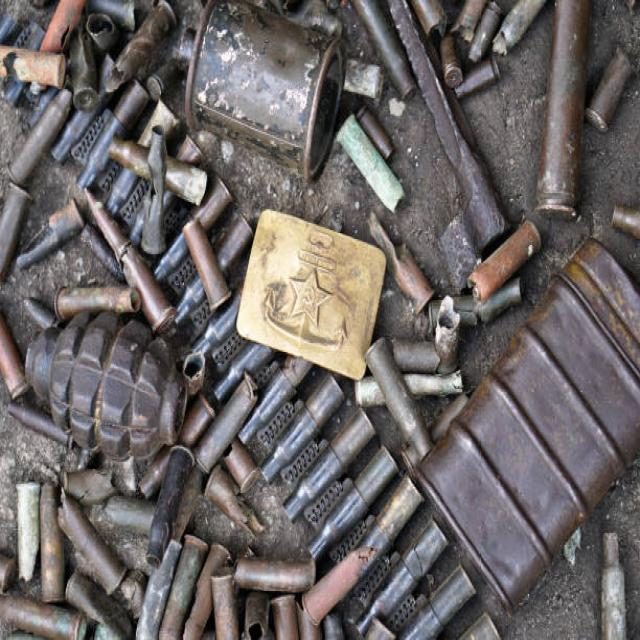grenade: (20, 308, 190, 462)
